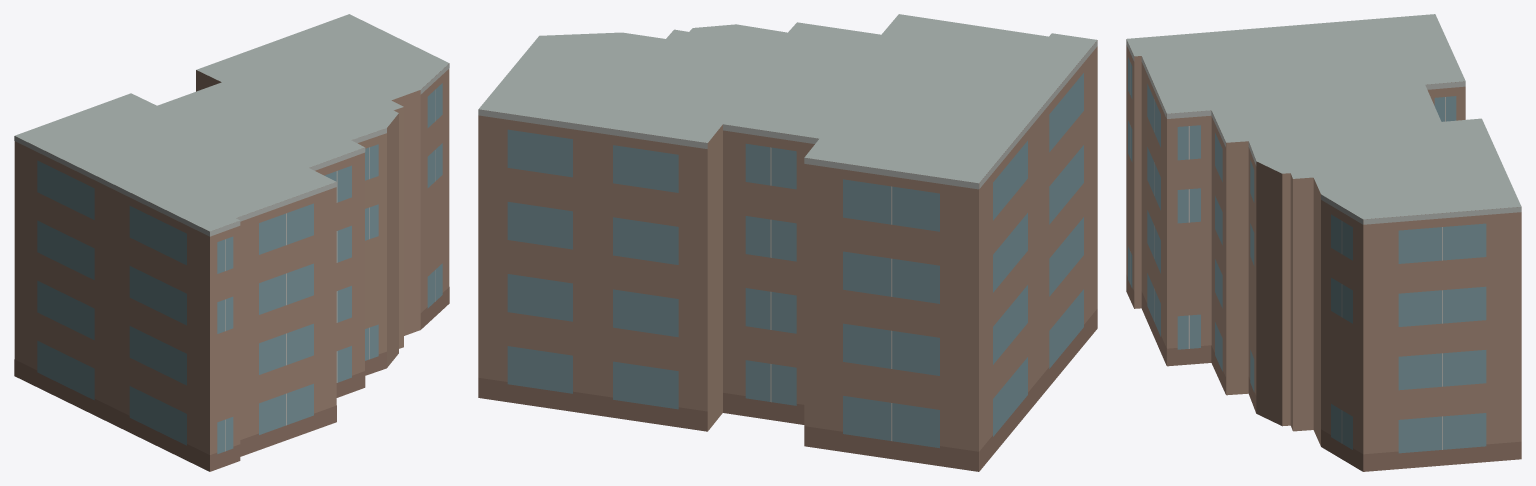
File: survey-upis-32696234.glb
The picture shows the model from 3 angles, left to right: view 1: azimuth 30°, elevation 25°; view 2: azimuth 150°, elevation 25°; view 3: azimuth 270°, elevation 25°; orthographic projection. The views are drawn at different scales.
Parts seen in each view (by area): view 1: survey-upis-32696234.tmp; view 2: survey-upis-32696234.tmp; view 3: survey-upis-32696234.tmp.
Part boxes in pixels (bbox=[...]): survey-upis-32696234.tmp: bbox=[14, 14, 449, 471]; survey-upis-32696234.tmp: bbox=[478, 14, 1097, 471]; survey-upis-32696234.tmp: bbox=[1126, 14, 1521, 471].
Size of the model in its own units: 19.99 by 11.45 by 16.26.
